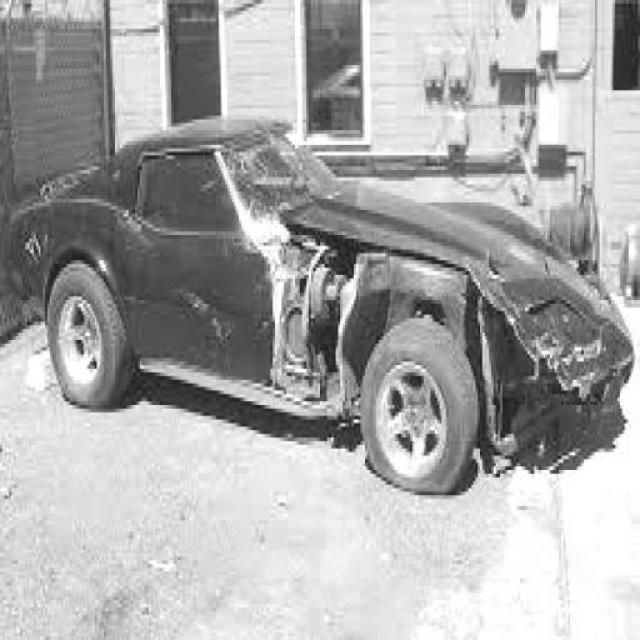car damage: (224, 146, 632, 460)
